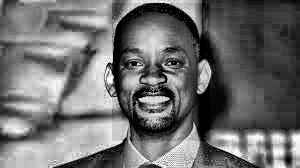happy: (112, 4, 210, 142)
